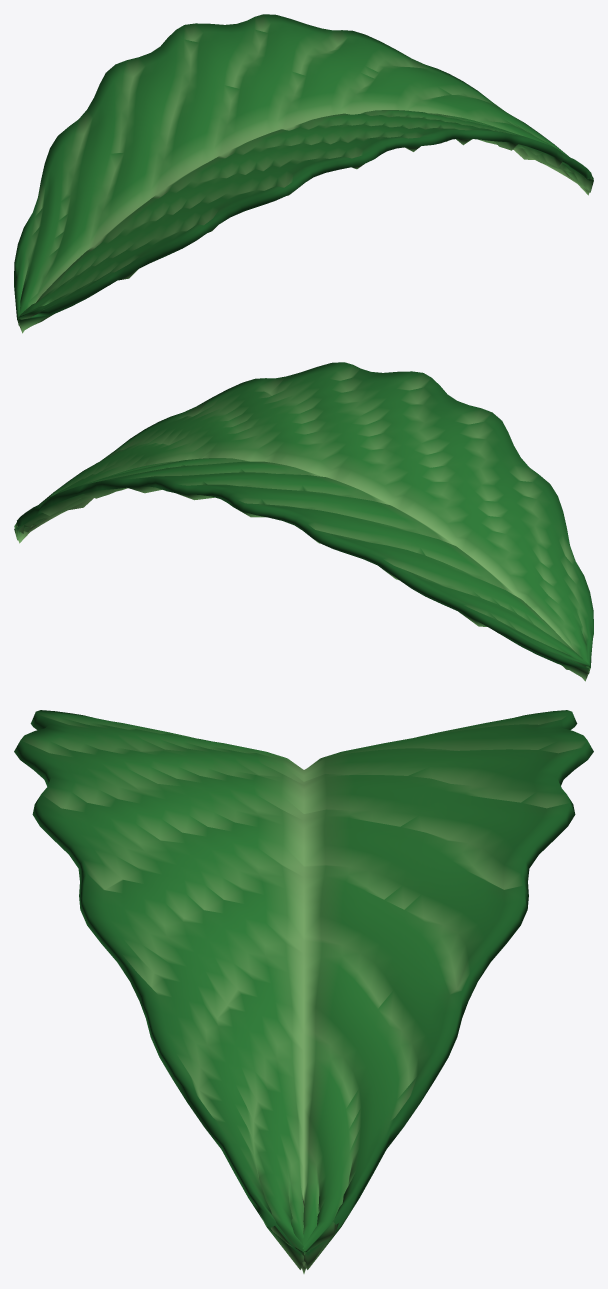
File: menthe.glb
3 renders of one model, top to bottom at view 1: azimuth 30°, elevation 25°; view 2: azimuth 150°, elevation 25°; view 3: azimuth 270°, elevation 25°, orthographic. The views are drawn at different scales.
Visible parts, largest first — view 1: Menthe; view 2: Menthe; view 3: Menthe.
Boxes of the visible parts, x1,y1,x2,y2 form: Menthe: [14, 14, 593, 333]; Menthe: [14, 362, 593, 681]; Menthe: [14, 710, 593, 1273].
Size of the model in its own units: 0.0465 by 0.0141 by 0.0255.
